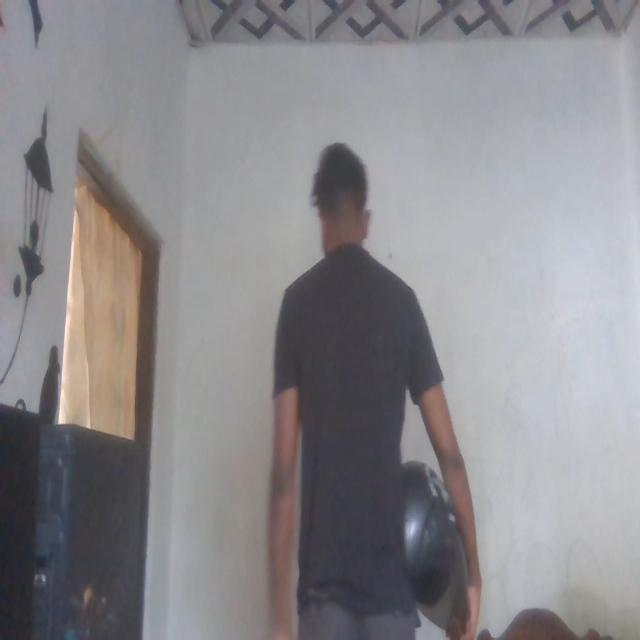Person: (272, 126, 452, 640)
